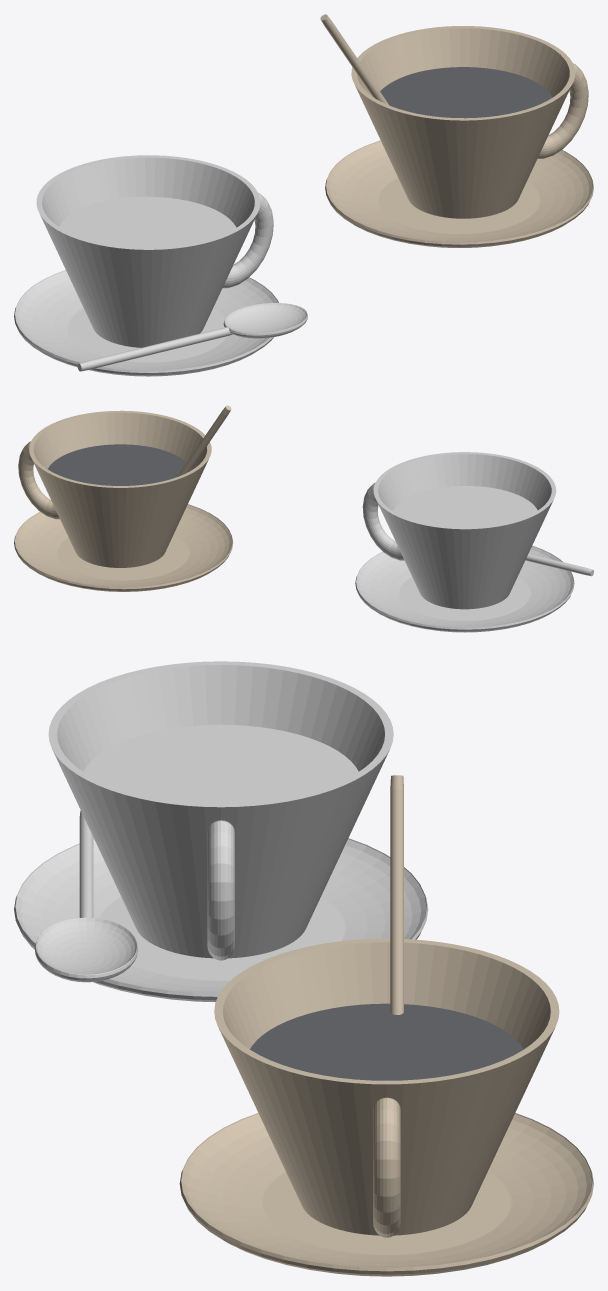
Rendered from coffees.glb.
The picture shows the model from 3 angles, top to bottom: view 1: azimuth 30°, elevation 25°; view 2: azimuth 150°, elevation 25°; view 3: azimuth 270°, elevation 25°; orthographic projection. The views are drawn at different scales.
Parts seen in each view (by area): view 1: Mesh_Mesh_head_geo.001_lambert2SG.001; view 2: Mesh_Mesh_head_geo.001_lambert2SG.001; view 3: Mesh_Mesh_head_geo.001_lambert2SG.001.
Boxes of the visible parts, box(x1,y1,x2,y2) form: Mesh_Mesh_head_geo.001_lambert2SG.001: box(14, 14, 593, 376); Mesh_Mesh_head_geo.001_lambert2SG.001: box(14, 405, 593, 632); Mesh_Mesh_head_geo.001_lambert2SG.001: box(14, 661, 593, 1276).
Size of the model in its own units: 0.157 by 0.0548 by 0.084.
